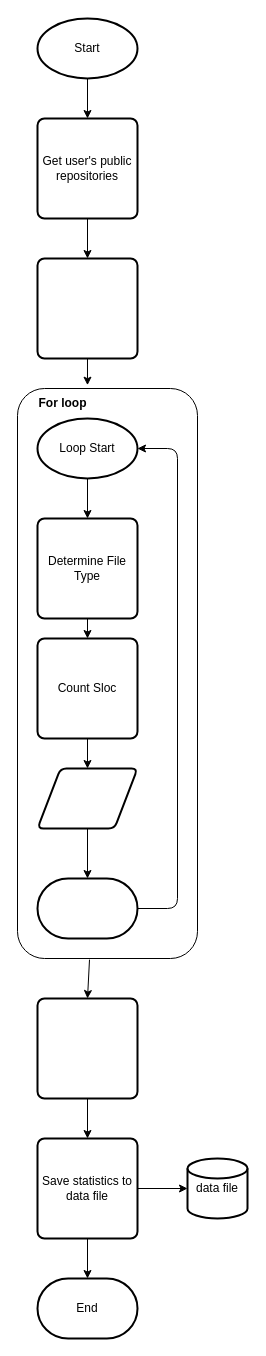
Some shapes in this 266 by 1356 pixel diagram are drawn without their labels. The centre of each missing label's shape, as x and y in pixels:
"Clone repositories" goes at (87,308).
"Determine overall statistics" goes at (87,1048).
"End Loop" goes at (87,908).
"Save repository statistics" goes at (87,798).
